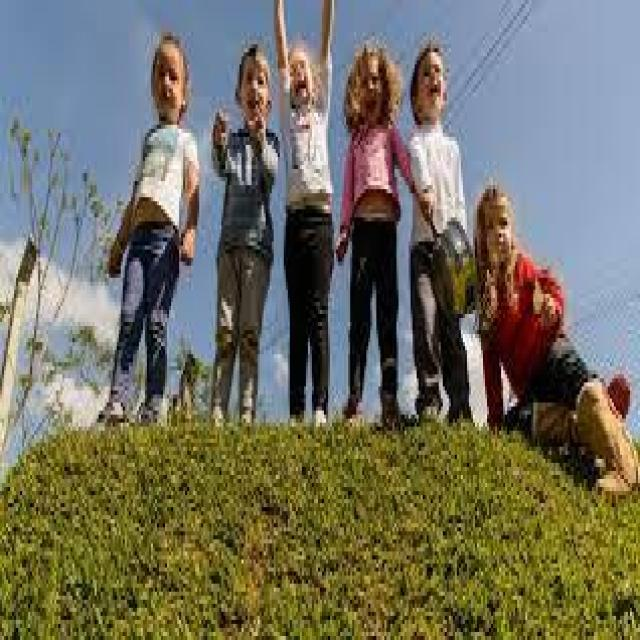person: (467, 161, 638, 495), (111, 4, 203, 411), (264, 4, 342, 427), (203, 20, 278, 431), (400, 24, 475, 423), (344, 12, 413, 427)
